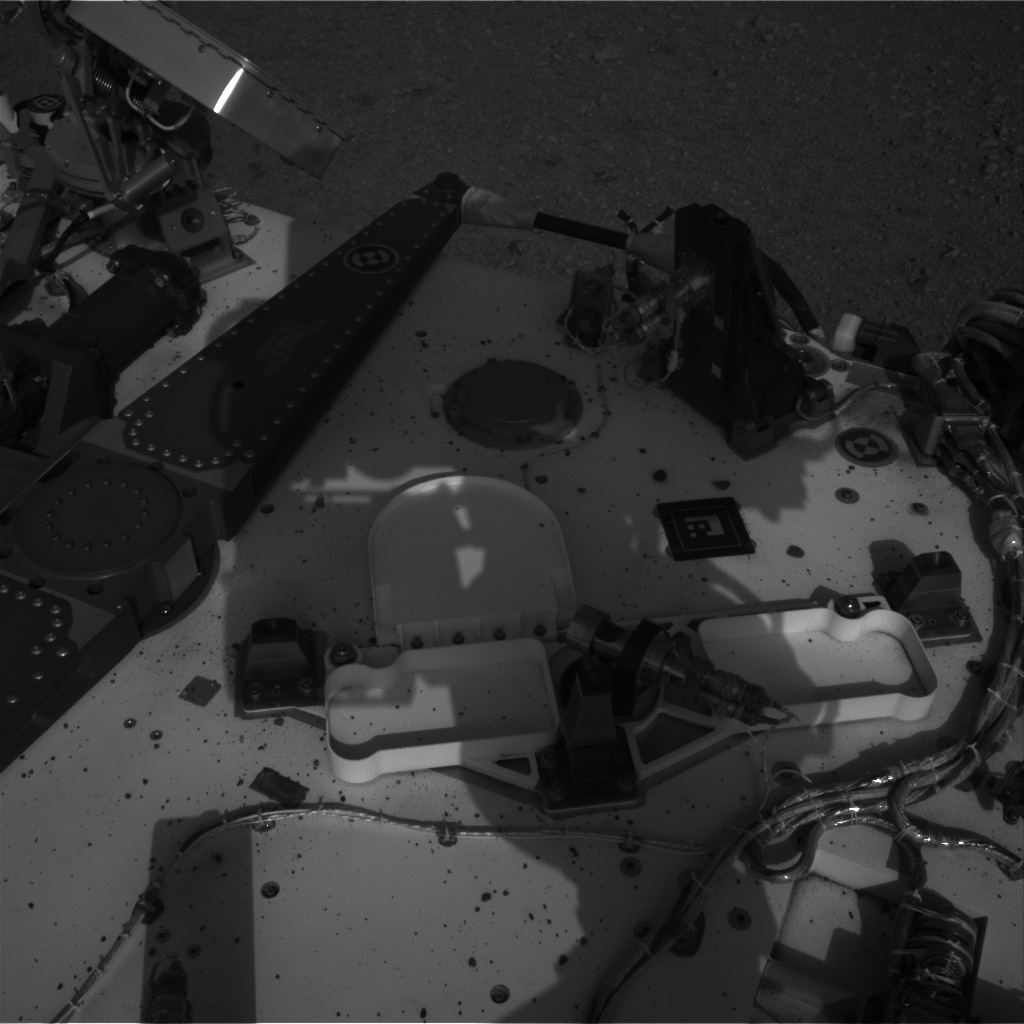soil: (478, 5, 1019, 271)
